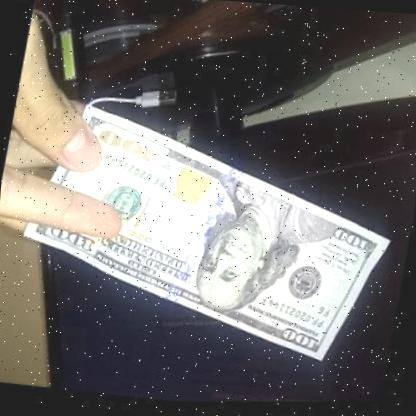one_hundred-front: (0, 74, 414, 394)
